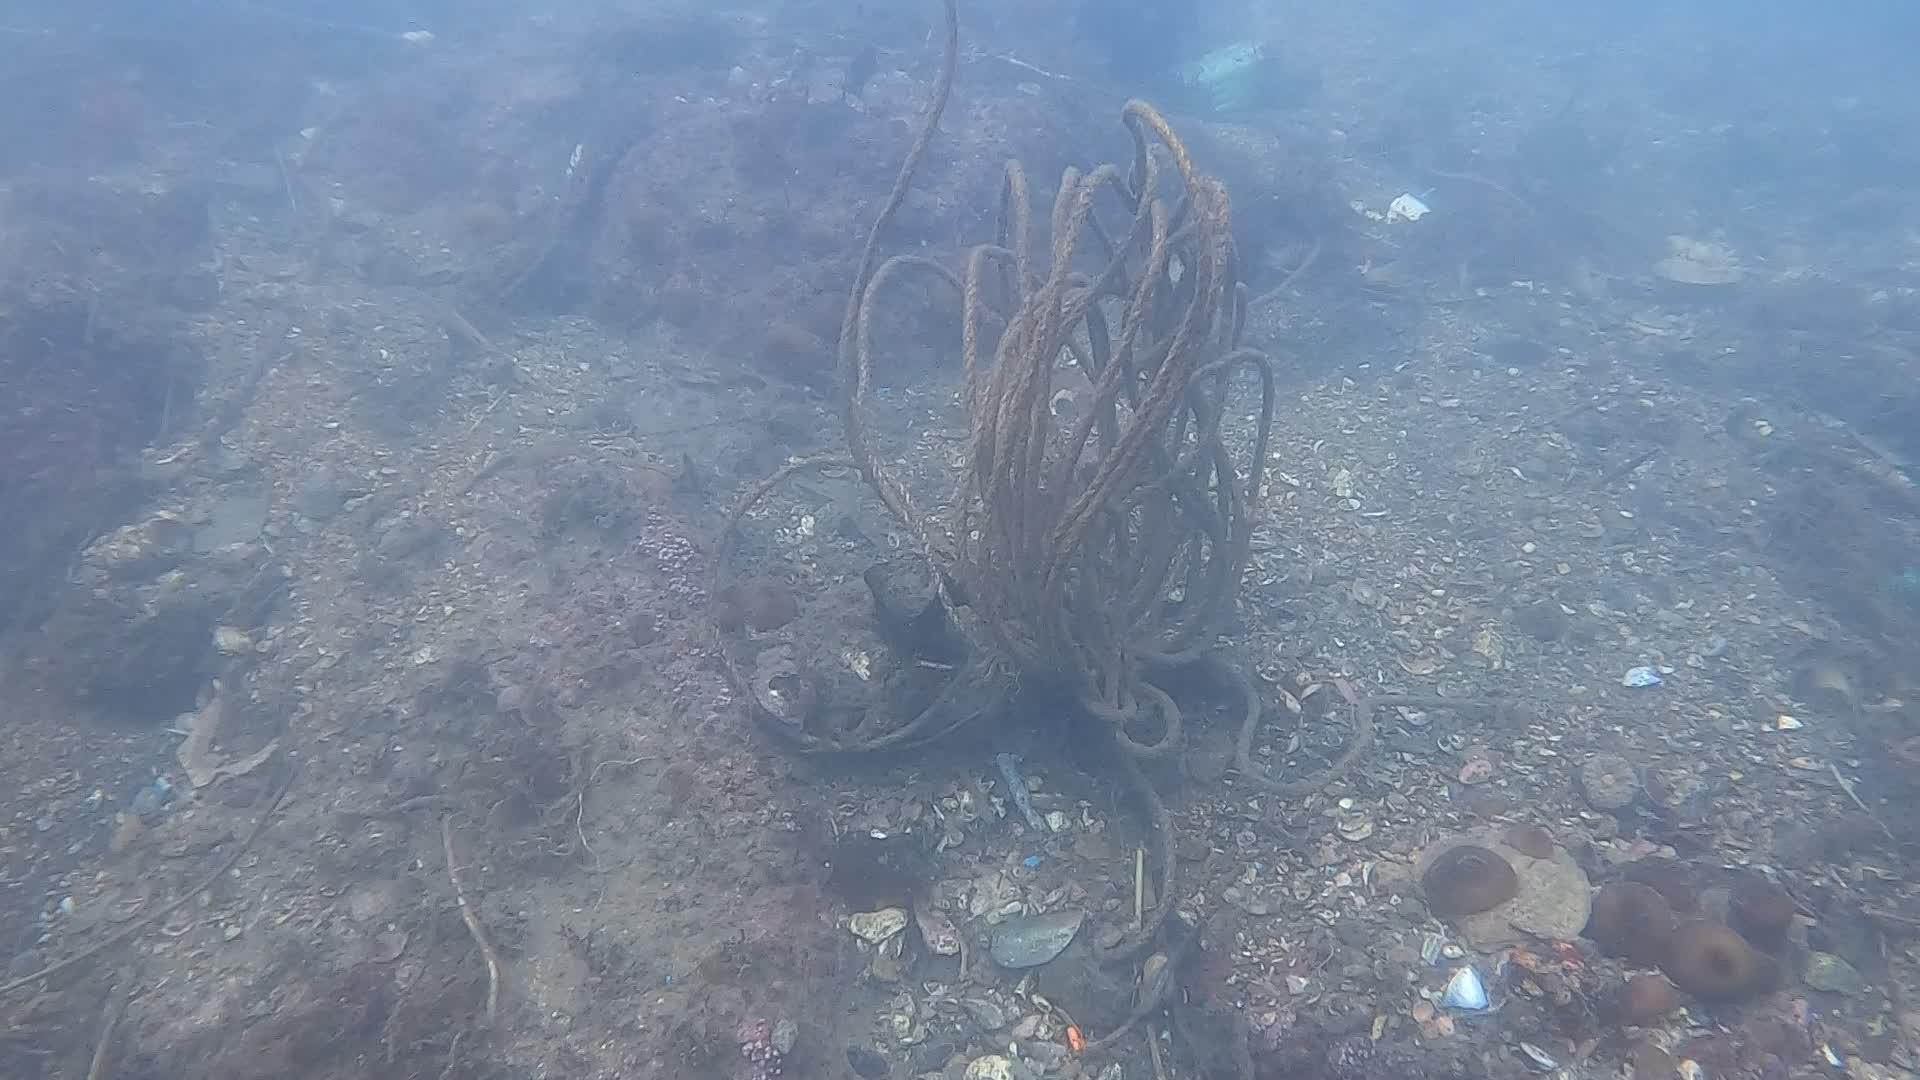bundle of ropes: (705, 0, 1378, 967)
